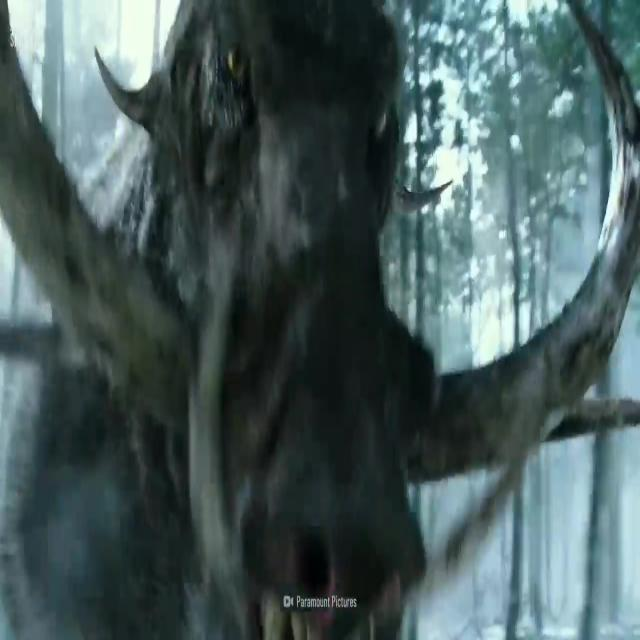pig: (36, 0, 566, 640)
